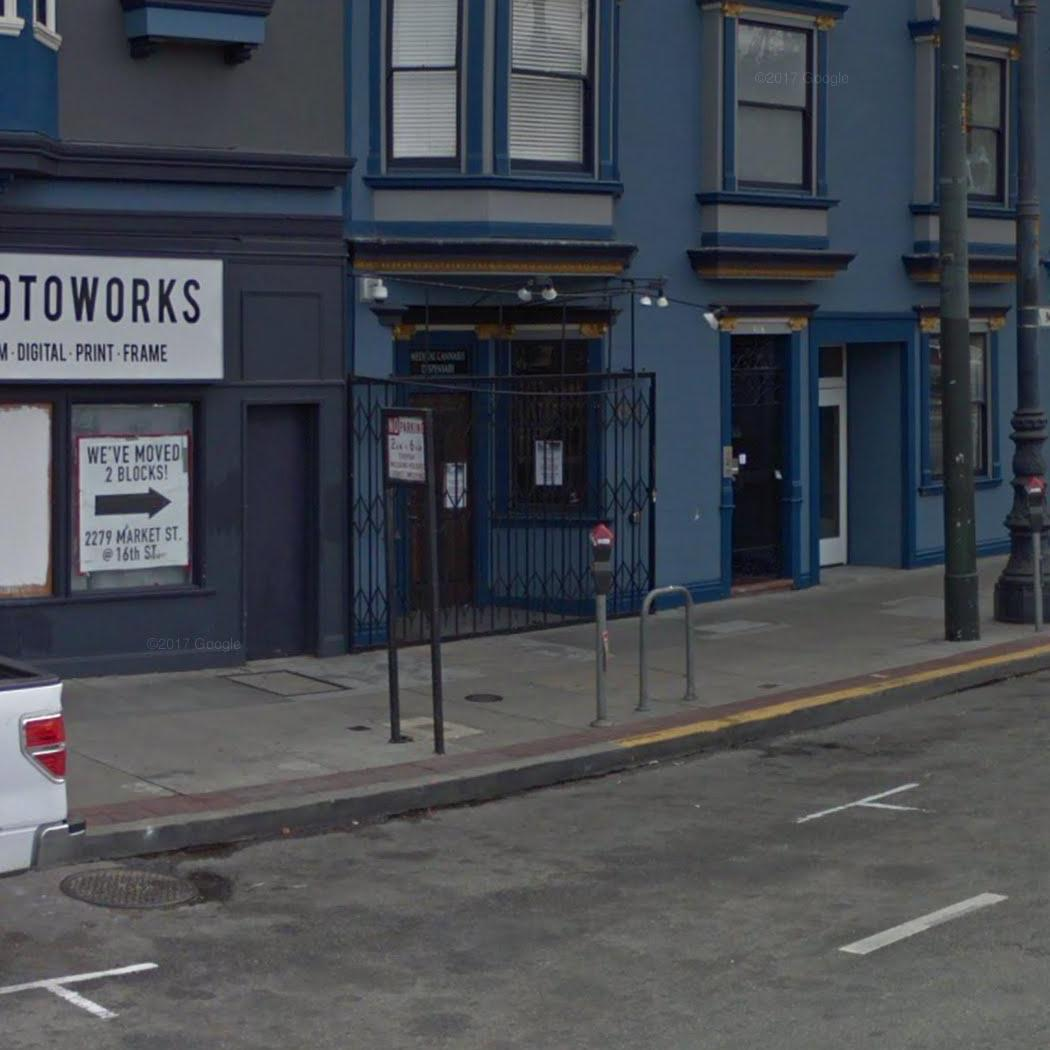No Parking: (381, 408, 432, 487)
